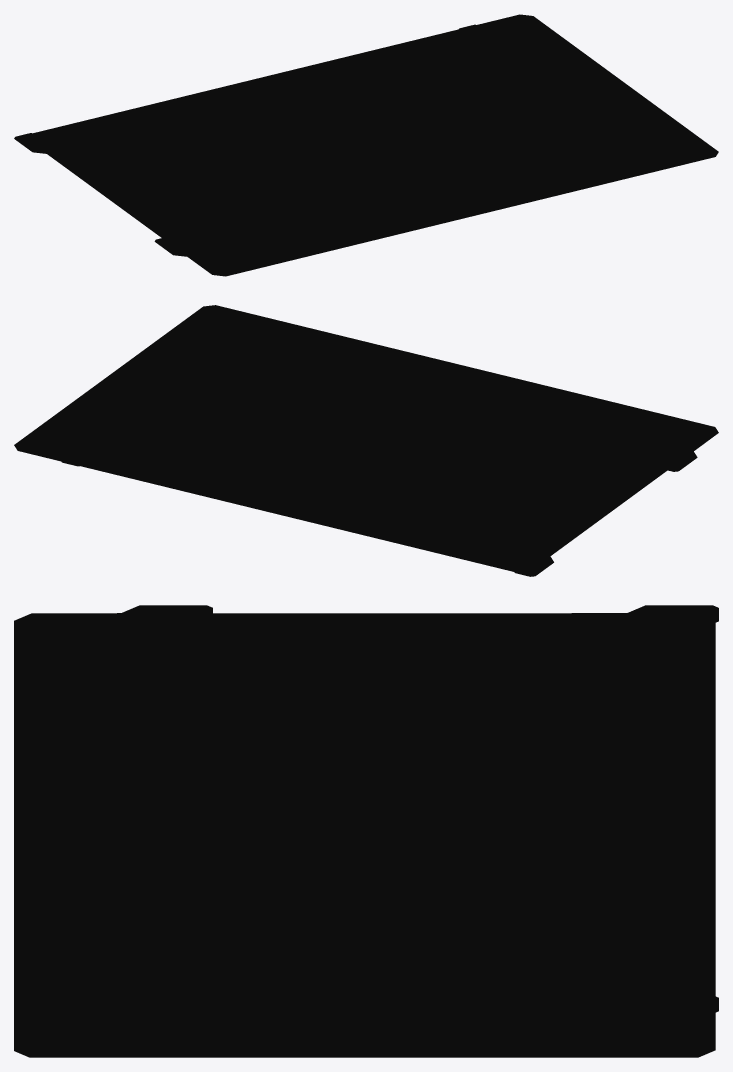
3 views of the same model, one above another, from view 1: azimuth 30°, elevation 25°; view 2: azimuth 150°, elevation 25°; view 3: azimuth 270°, elevation 25° (orthographic). The views are drawn at different scales.
Visible parts, largest first — view 1: Joint_0_Object_0; view 2: Joint_0_Object_0; view 3: Joint_0_Object_0.
Part boxes in pixels (box(x1,y1,x2,y2)): Joint_0_Object_0: box(14, 14, 718, 276); Joint_0_Object_0: box(14, 305, 718, 576); Joint_0_Object_0: box(14, 605, 718, 1057).
Size of the model in its own units: 1683 by 0 by 1108.
1 material, 1 textured.
